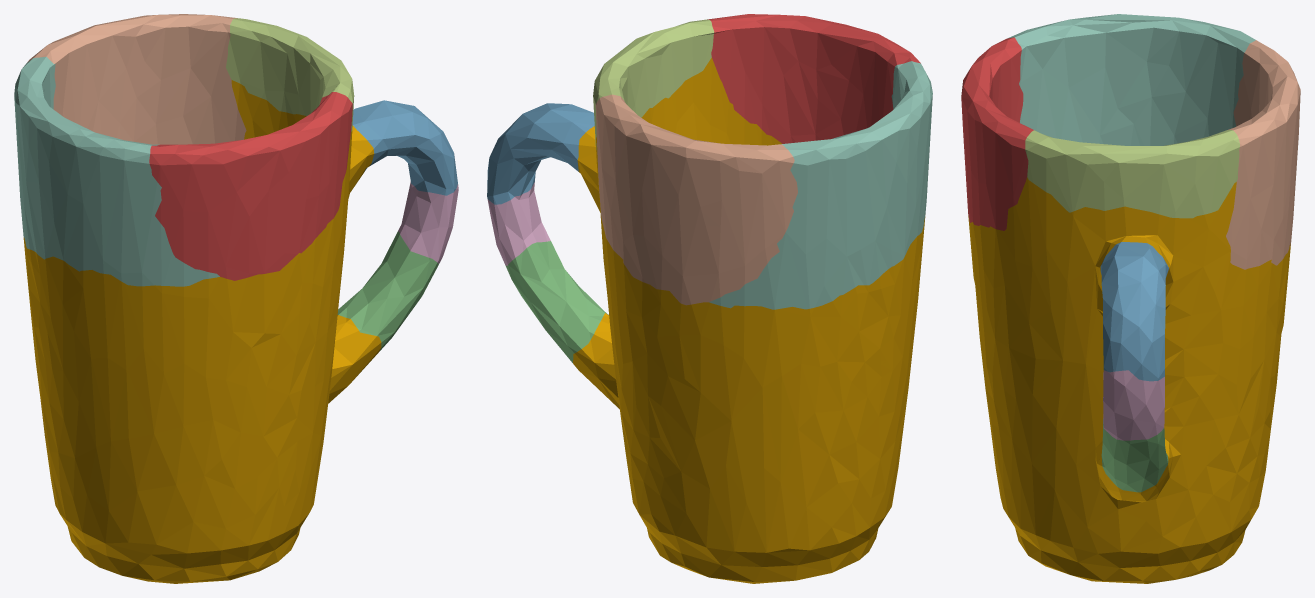
Rendered from mode_12_8pcs.glb.
3 views of the same model, side by side, from view 1: azimuth 30°, elevation 25°; view 2: azimuth 150°, elevation 25°; view 3: azimuth 270°, elevation 25° (orthographic).
Parts seen in each view (by area): view 1: piece_0.obj, piece_1.obj, piece_4.obj, piece_7.obj, piece_5.obj, piece_2.obj, piece_3.obj, piece_6.obj; view 2: piece_0.obj, piece_7.obj, piece_4.obj, piece_1.obj, piece_5.obj, piece_2.obj, piece_3.obj, piece_6.obj; view 3: piece_0.obj, piece_4.obj, piece_5.obj, piece_7.obj, piece_1.obj, piece_2.obj, piece_6.obj, piece_3.obj.
Part boxes in pixels (<box>): piece_0.obj: <box>23,80,381,583</box>; piece_1.obj: <box>149,92,352,280</box>; piece_4.obj: <box>14,56,219,286</box>; piece_7.obj: <box>27,14,246,144</box>; piece_5.obj: <box>226,18,354,131</box>; piece_2.obj: <box>352,100,457,195</box>; piece_3.obj: <box>337,231,439,351</box>; piece_6.obj: <box>398,181,458,263</box>; piece_0.obj: <box>573,57,925,583</box>; piece_7.obj: <box>595,94,797,305</box>; piece_4.obj: <box>709,61,932,309</box>; piece_1.obj: <box>707,14,920,143</box>; piece_5.obj: <box>593,19,714,149</box>; piece_2.obj: <box>487,103,594,204</box>; piece_3.obj: <box>505,241,608,362</box>; piece_6.obj: <box>487,182,550,265</box>; piece_0.obj: <box>968,177,1290,583</box>; piece_4.obj: <box>1007,14,1255,145</box>; piece_5.obj: <box>1025,130,1239,218</box>; piece_7.obj: <box>1226,40,1300,269</box>; piece_1.obj: <box>961,37,1033,230</box>; piece_2.obj: <box>1100,242,1168,381</box>; piece_6.obj: <box>1103,370,1164,440</box>; piece_3.obj: <box>1101,419,1168,492</box>.
Size of the model in its own units: 0.9508 by 1 by 0.6704.
